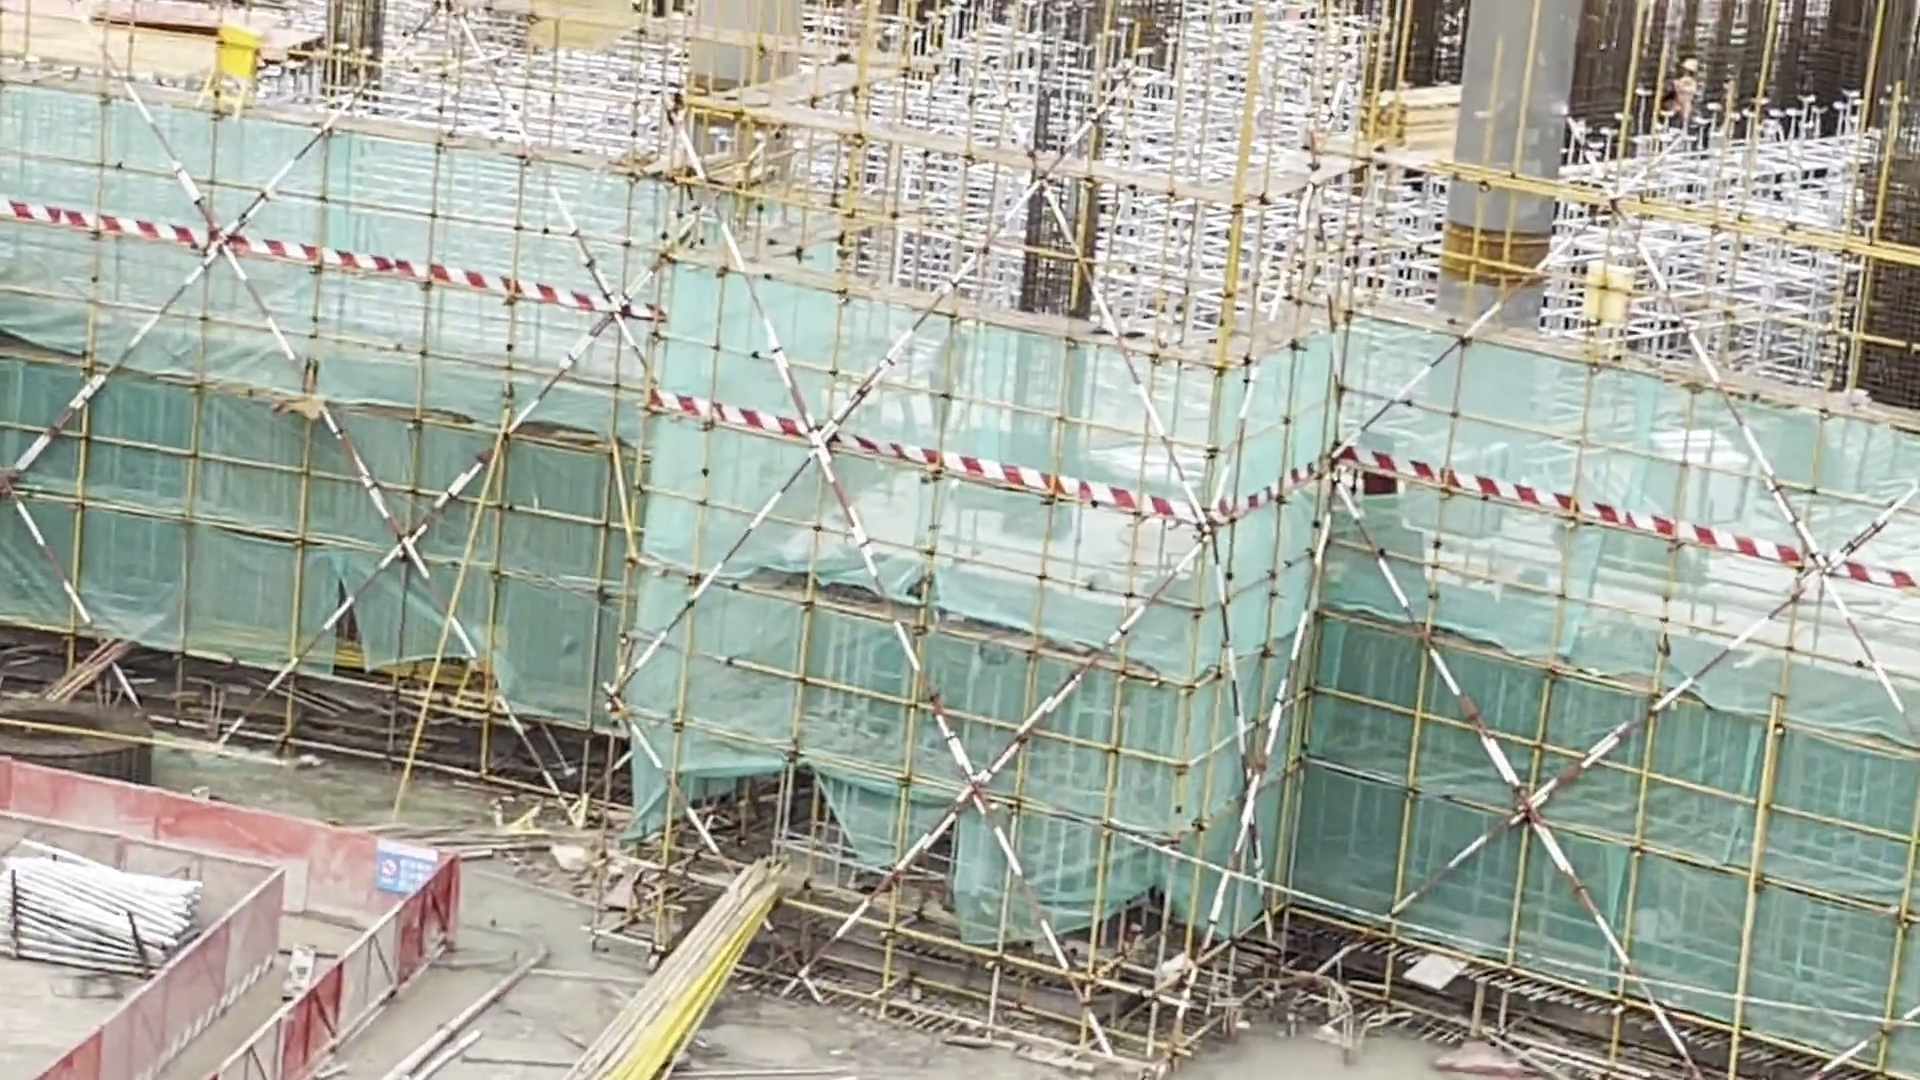ebox: (193, 7, 277, 103)
fence: (24, 738, 468, 944), (80, 876, 406, 1080)
scaffold: (8, 839, 200, 971)
slogan: (353, 833, 447, 907)
